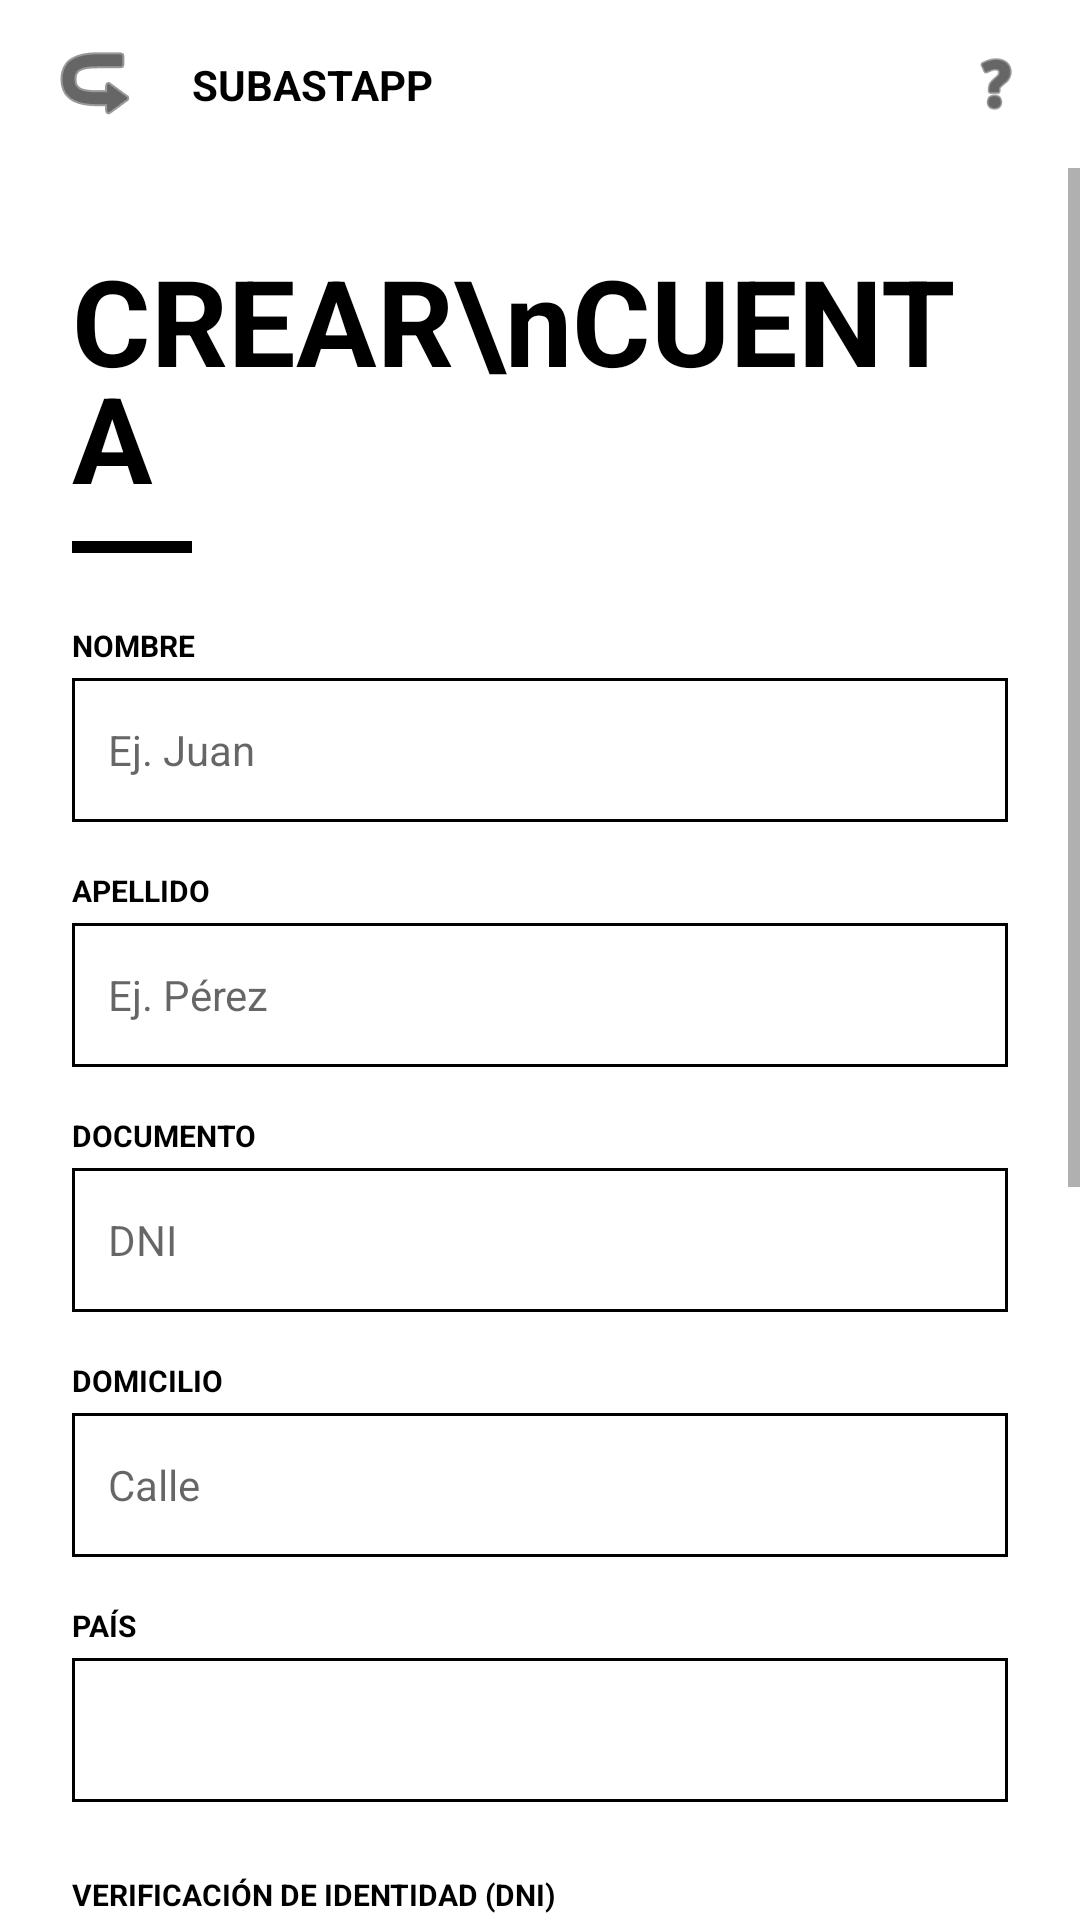

Named icons in this screenshot (1080 × 1920) and their centers, [x,y]:
help: [996,84]
